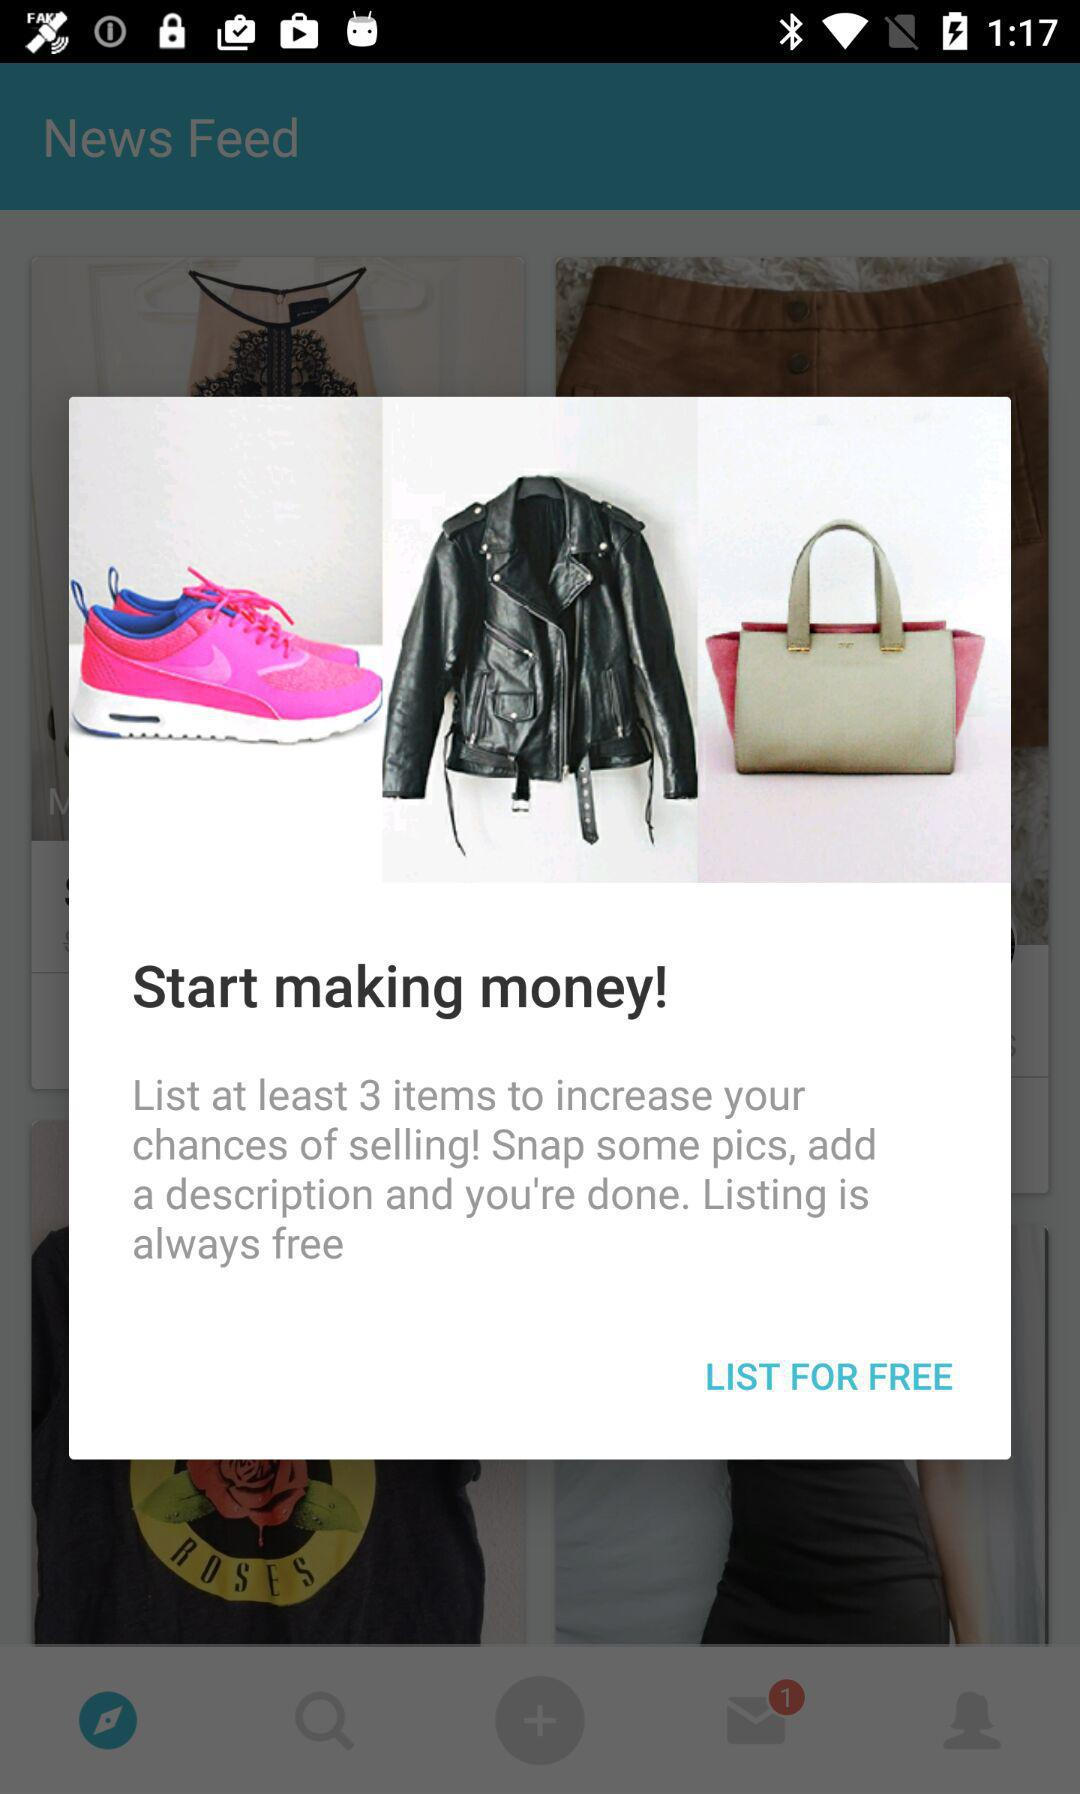Image: (70, 397, 1011, 882)
Modal: (69, 397, 1012, 1461)
Text: (133, 1076, 878, 1269), (133, 962, 667, 1021), (46, 117, 299, 160), (706, 1360, 954, 1392)
UpperTaskBar: (1, 1, 1080, 64)
